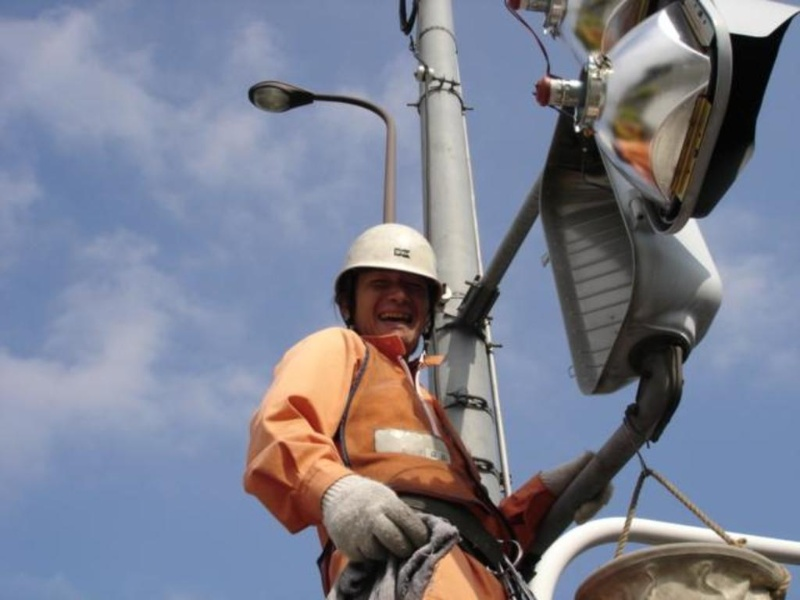Baret: (334, 223, 445, 287)
